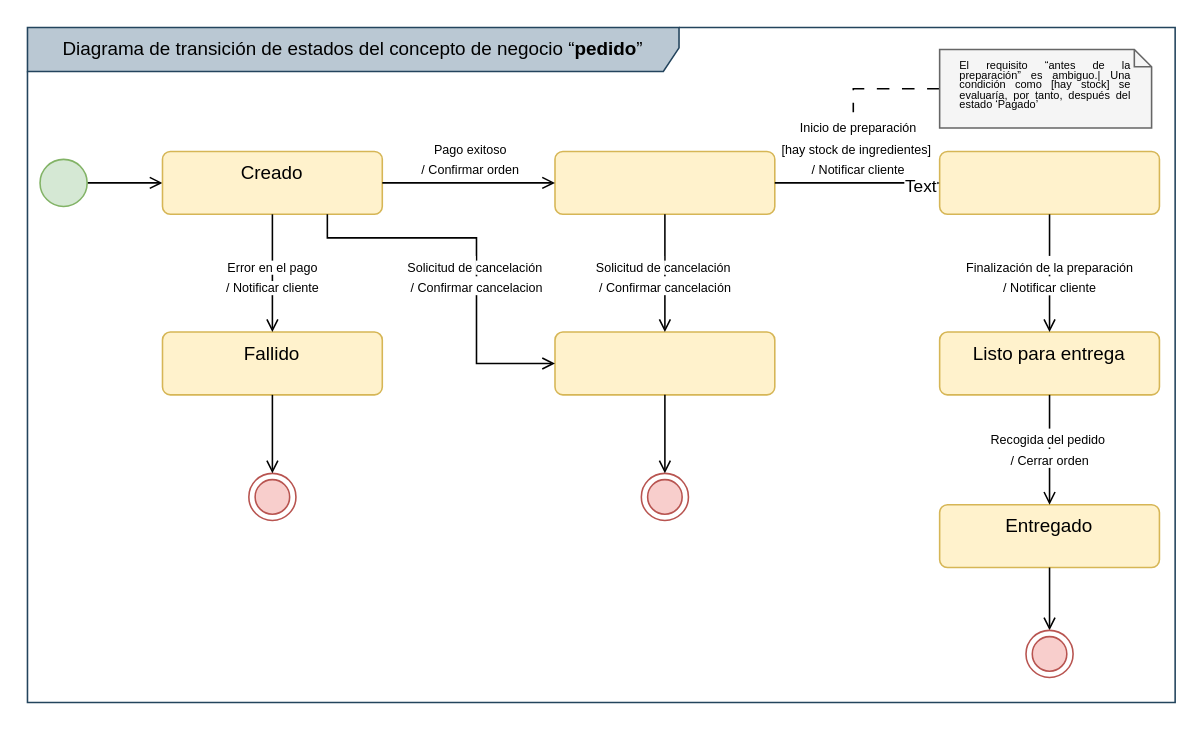
Image size: 1203x730. Some labels were removed from this diagram. Here are the shapes that lost their labels. From the top down, the centre of each, then its label:
At (x=664, y=182): "Pagado".
At (x=1048, y=182): "En preparación".
At (x=664, y=362): "Cancelado".
